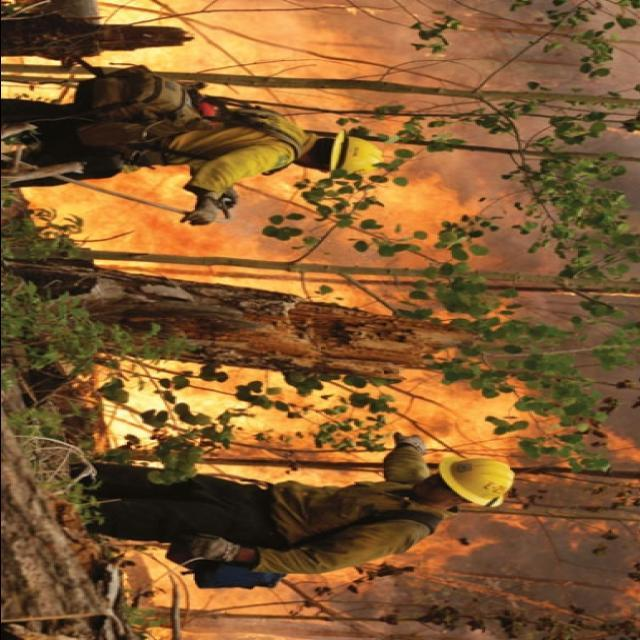Fire: (45, 9, 615, 594)
